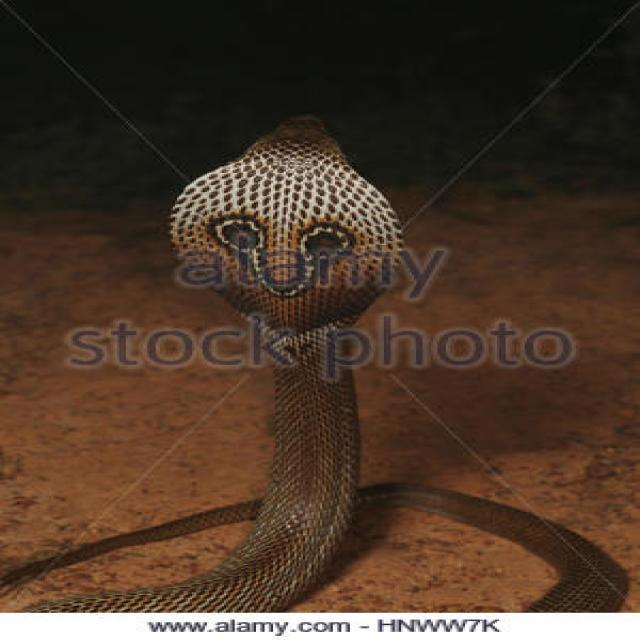Snake: (0, 111, 629, 611)
